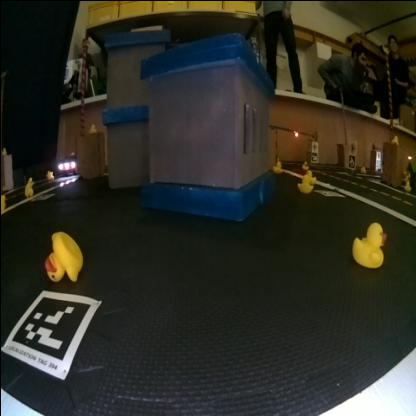Duckie: (44, 232, 81, 278), (352, 222, 384, 266), (297, 174, 311, 192), (23, 181, 32, 195), (272, 159, 280, 171), (300, 160, 306, 168), (404, 180, 410, 188), (390, 134, 396, 142), (45, 170, 51, 178), (88, 123, 94, 130)
Duckiebot: (56, 154, 76, 172)
Intersection sign: (310, 141, 316, 149), (348, 142, 353, 150)
QR code: (2, 290, 92, 374), (315, 187, 343, 195), (347, 154, 353, 166), (310, 152, 316, 158)
